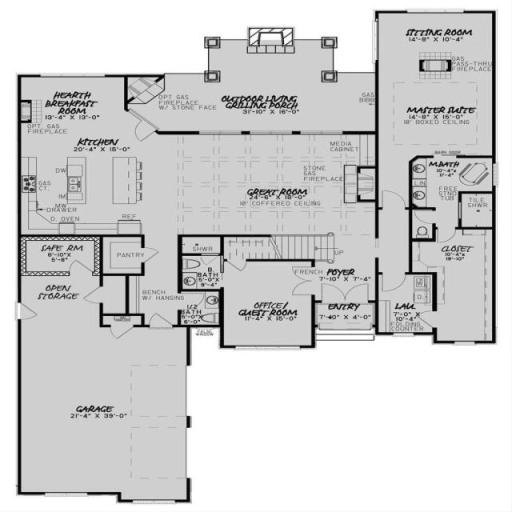Room: (379, 15, 494, 156), (226, 269, 304, 343), (20, 78, 124, 126)
garage: (26, 310, 188, 496)
hall: (176, 130, 373, 239)
kitchen: (27, 126, 172, 236)
porch: (133, 75, 384, 135), (211, 38, 342, 80)
